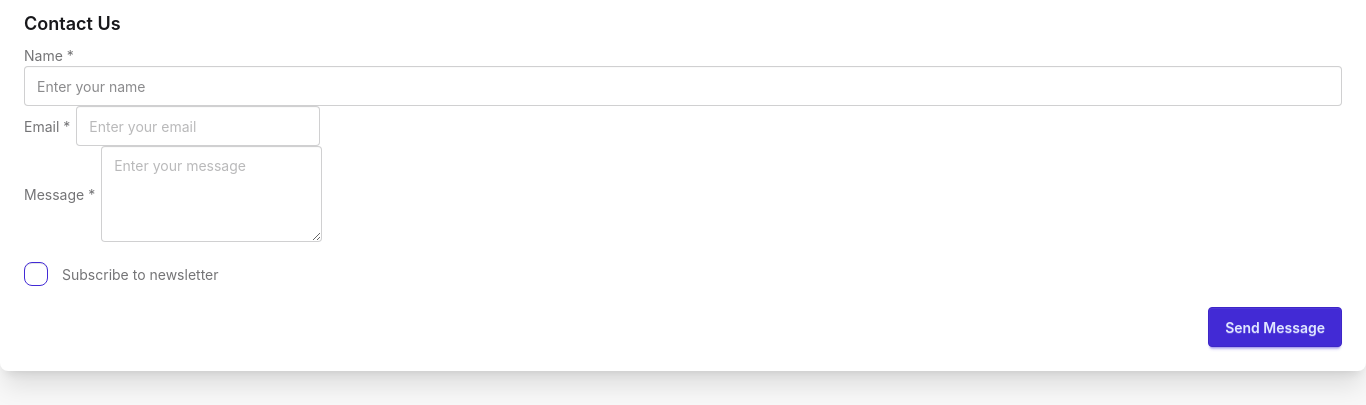
Test case: ContactForm › validation errors › shows "Message is required" when message is empty
Type "Guybrush" into the field labelled "Name *" at (683, 86), box [24, 66, 1342, 106]
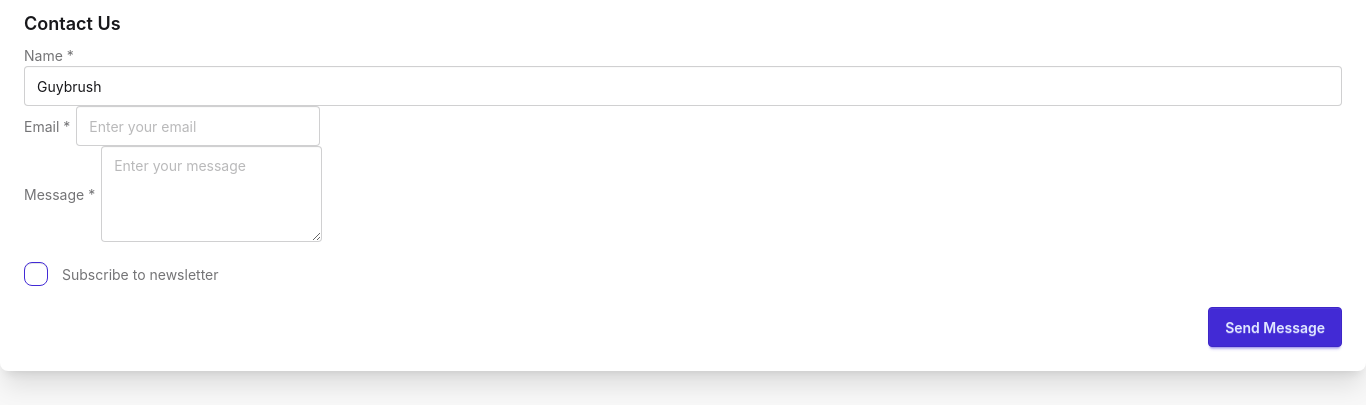
Type "mighty@pirate.gov" into the field labelled "Email *" at (198, 126), box [76, 106, 320, 146]
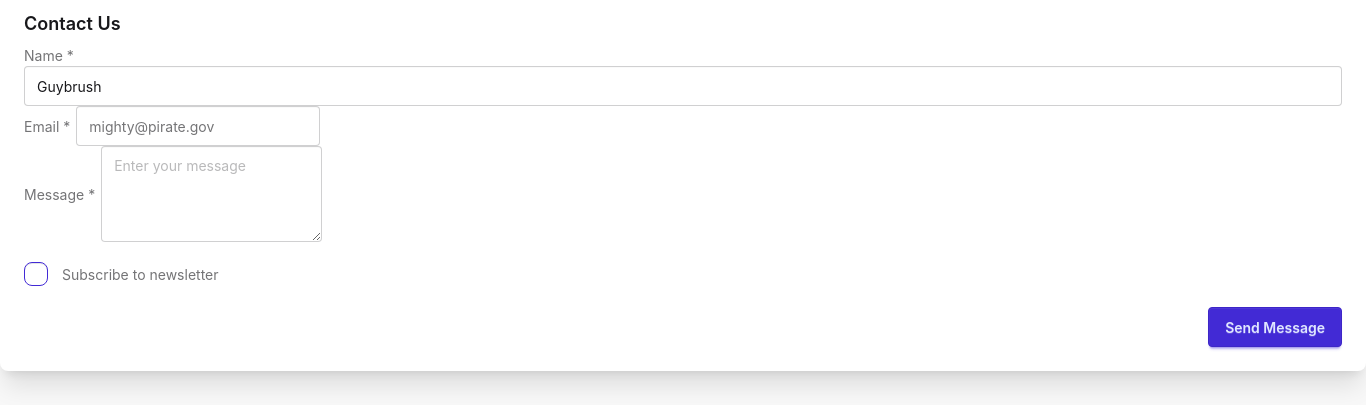
Click the button "Send Message" at (1275, 327), box [1208, 307, 1342, 347]
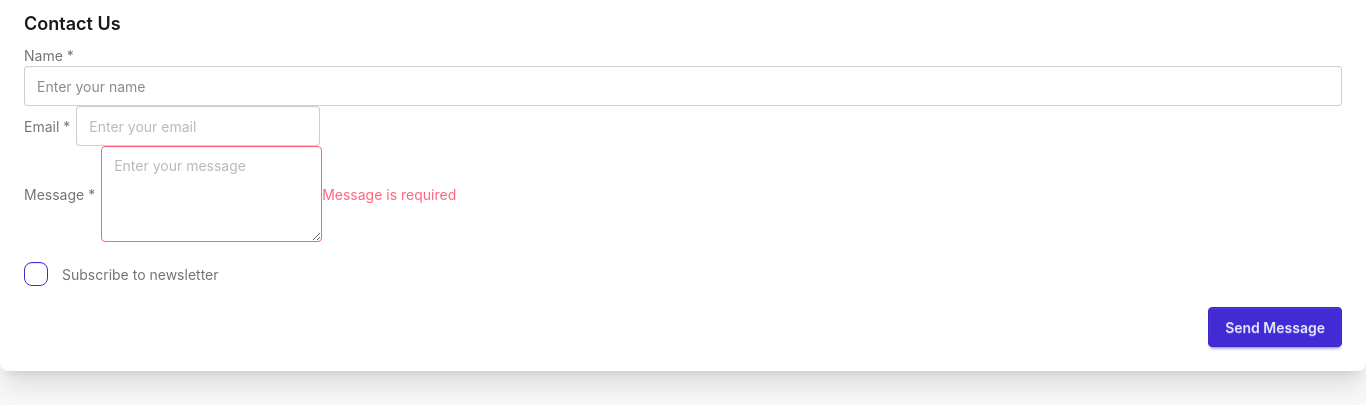
Now the text "Message is required" is shown, box [322, 184, 456, 204]
